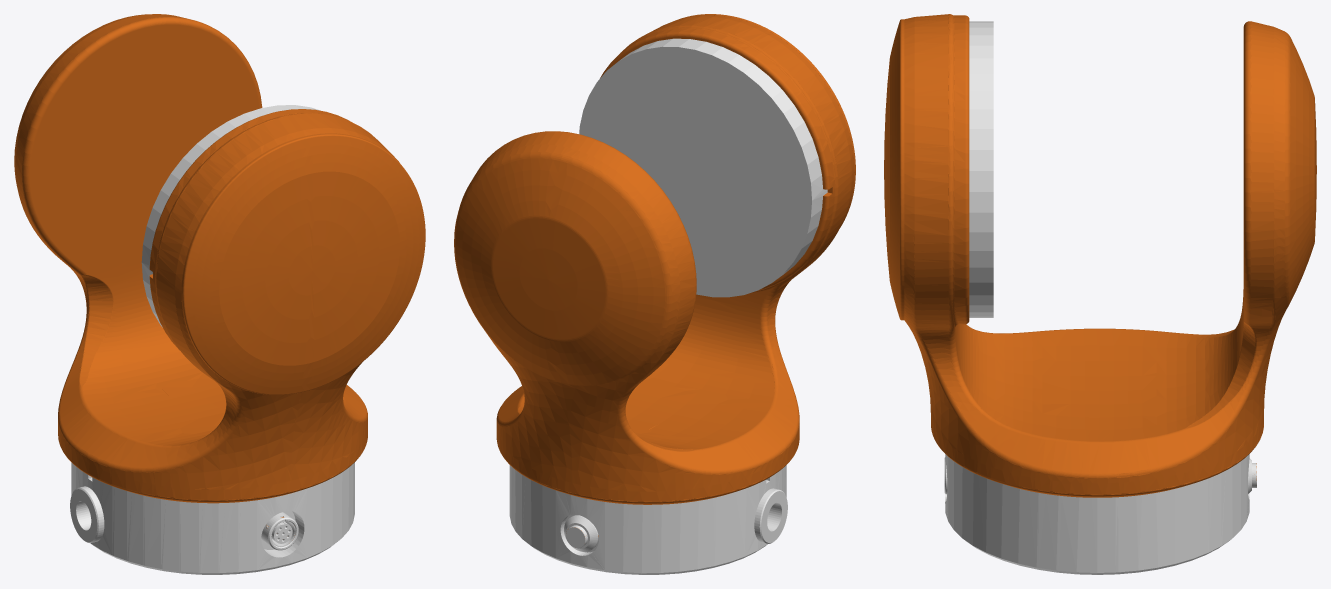
3 views of the same model, side by side, from view 1: azimuth 30°, elevation 25°; view 2: azimuth 150°, elevation 25°; view 3: azimuth 270°, elevation 25° (orthographic). The views are drawn at different scales.
Visible parts, largest first — view 1: Link7_R; view 2: Link7_R; view 3: Link7_R.
Boxes of the visible parts, box(x1,y1,x2,y2) form: Link7_R: box(14, 14, 425, 574); Link7_R: box(454, 14, 855, 574); Link7_R: box(884, 14, 1316, 574).
Bounding box in the file's own units: 0.082 × 0.1334 × 0.1065.
